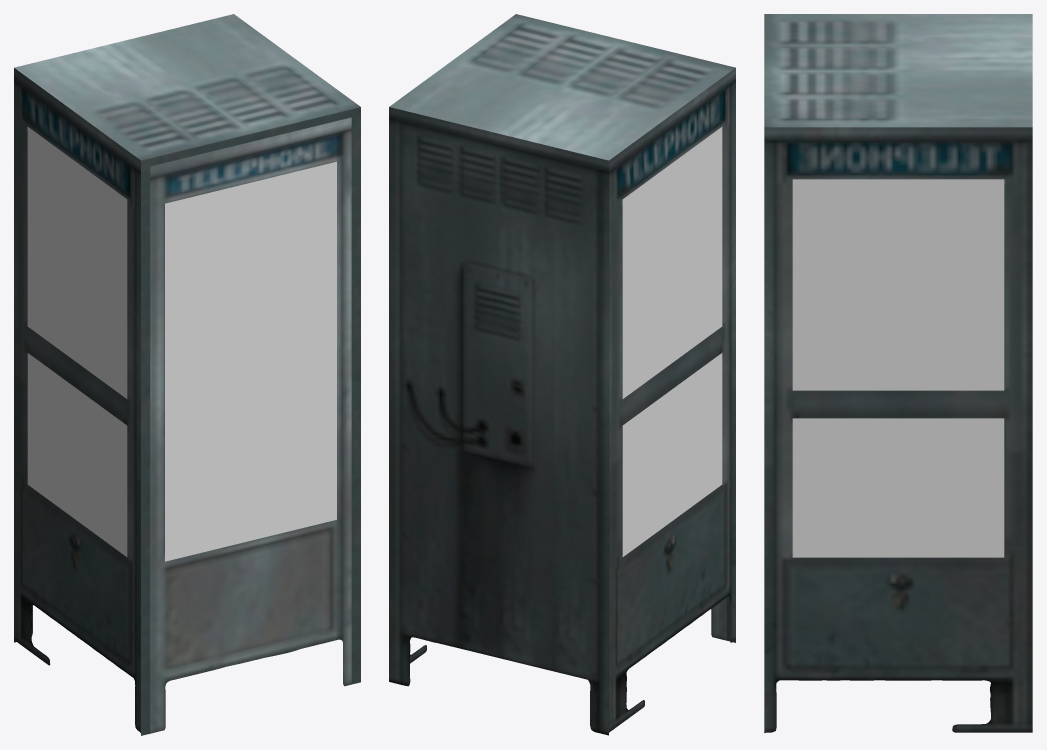
The model's file is pr_booth.glb.
3 renders of one model, left to right at view 1: azimuth 30°, elevation 25°; view 2: azimuth 150°, elevation 25°; view 3: azimuth 270°, elevation 25°, orthographic. The views are drawn at different scales.
Parts seen in each view (by area): view 1: body|glass, body|Body.001, body|Door; view 2: body|Body.001, body|glass, body|Door; view 3: body|Body.001, body|glass.
Part boxes in pixels (x1=…): body|glass: x1=27, y1=127, x2=336, y2=561; body|Body.001: x1=14, y1=14, x2=360, y2=735; body|Door: x1=150, y1=117, x2=351, y2=733; body|Body.001: x1=389, y1=14, x2=735, y2=735; body|glass: x1=622, y1=127, x2=722, y2=556; body|Door: x1=711, y1=597, x2=726, y2=640; body|Body.001: x1=764, y1=14, x2=1032, y2=733; body|glass: x1=792, y1=179, x2=1004, y2=557.
Bounding box in the file's own units: 0.88 × 2.2 × 0.88.
Materials: 3 (2 with a texture image).
